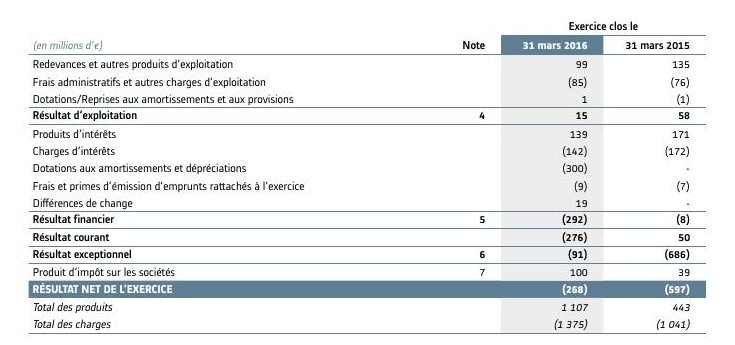table: (0, 0, 735, 345)
